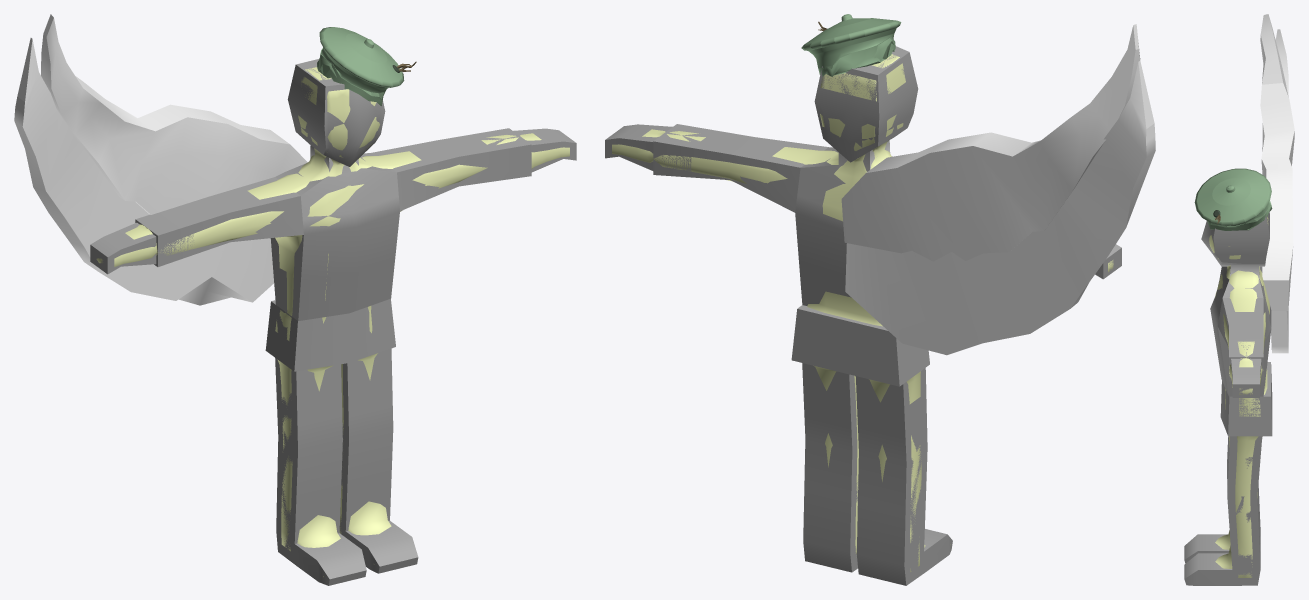
The model's file is GreenCupid.fbx.
3 renders of one model, left to right at view 1: azimuth 30°, elevation 25°; view 2: azimuth 150°, elevation 25°; view 3: azimuth 270°, elevation 25°, orthographic. The views are drawn at different scales.
Parts seen in each view (by area): view 1: pasted__pCube3, UpperWing, UnderWing, pCube4, pasted__pCube2, Beret:pasted__pCube3; view 2: pasted__pCube3, UnderWing, UpperWing, pCube4, pasted__pCube2, Beret:pasted__pCube3; view 3: pasted__pCube3, UpperWing, pCube4, Beret:pasted__pCube3, pasted__pCube2, UnderWing.
Part boxes in pixels (x1,y1,x2,y2): pasted__pCube3: (90,128,576,585); UpperWing: (41,14,307,214); UnderWing: (14,38,273,305); pCube4: (96,67,569,576); pasted__pCube2: (287,59,385,166); Beret:pasted__pCube3: (317,27,416,105); pasted__pCube3: (605,124,1121,585); UnderWing: (845,61,1155,355); UpperWing: (841,24,1140,261); pCube4: (612,54,1113,571); pasted__pCube2: (814,46,918,162); Beret:pasted__pCube3: (801,14,901,76); pasted__pCube3: (1184,264,1272,585); UpperWing: (1260,14,1294,310); pCube4: (1209,217,1269,577); Beret:pasted__pCube3: (1194,168,1272,230); pasted__pCube2: (1201,211,1269,266); UnderWing: (1271,29,1288,353).
Size of the model in its own units: 8.5 by 9.06 by 2.
